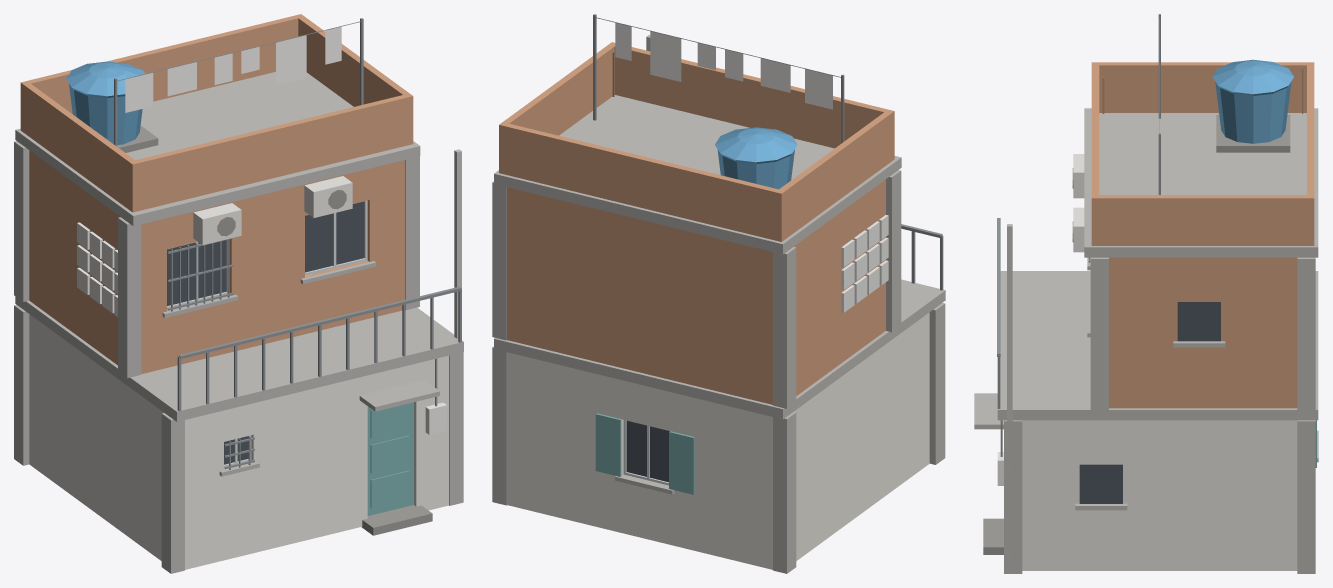
3 renders of one model, left to right at view 1: azimuth 30°, elevation 25°; view 2: azimuth 150°, elevation 25°; view 3: azimuth 270°, elevation 25°, orthographic.
Parts seen in each view (by area): view 1: fv_h06; view 2: fv_h06; view 3: fv_h06.
Boxes of the visible parts, x1=… form: fv_h06: x1=14, y1=14, x2=463, y2=573; fv_h06: x1=492, y1=14, x2=945, y2=573; fv_h06: x1=974, y1=14, x2=1318, y2=573.
Bounding box in the file's own units: 5.42 × 7.67 × 5.57.
